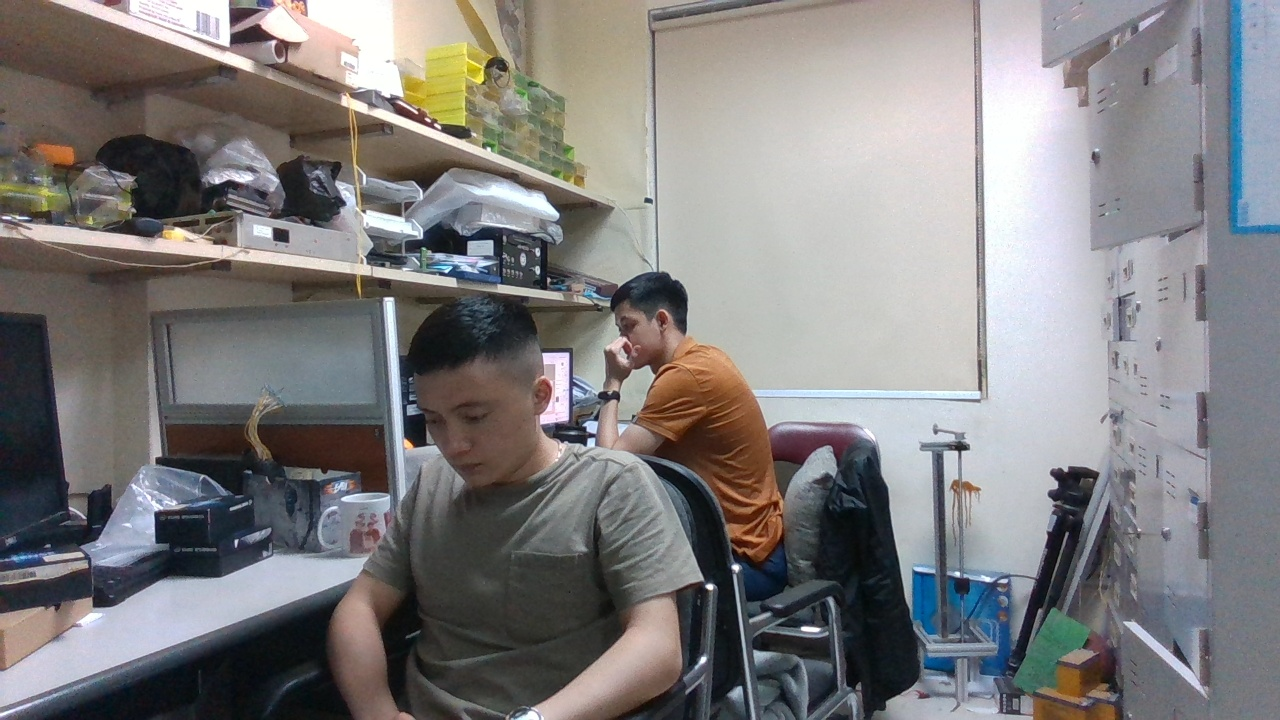person: (285, 286, 708, 719), (587, 258, 802, 619)
